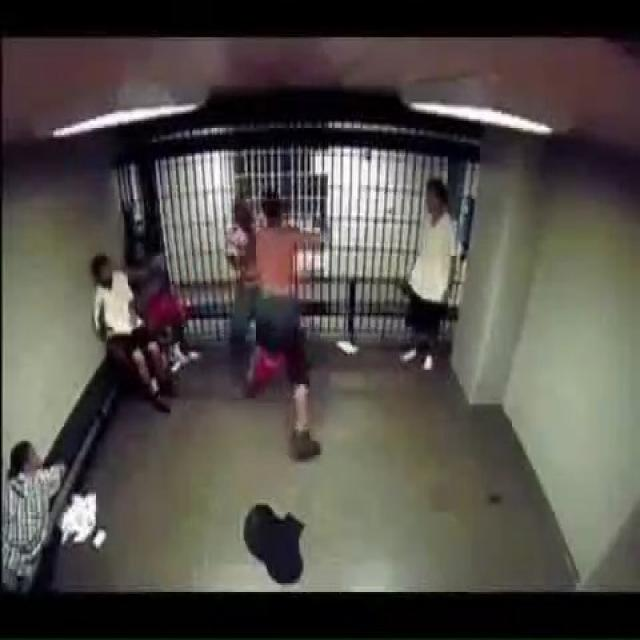fight: (227, 188, 322, 464)
